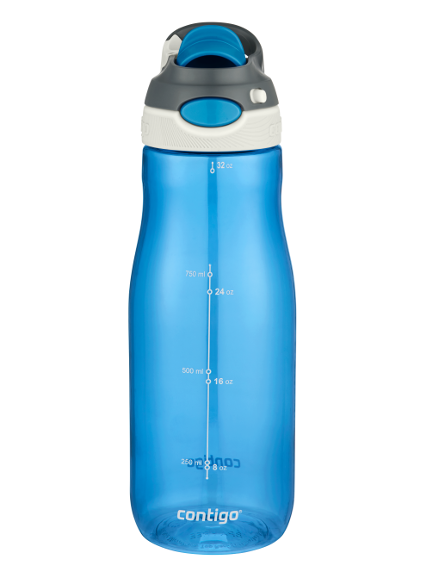Rec_Plastic: (89, 8, 311, 553)
